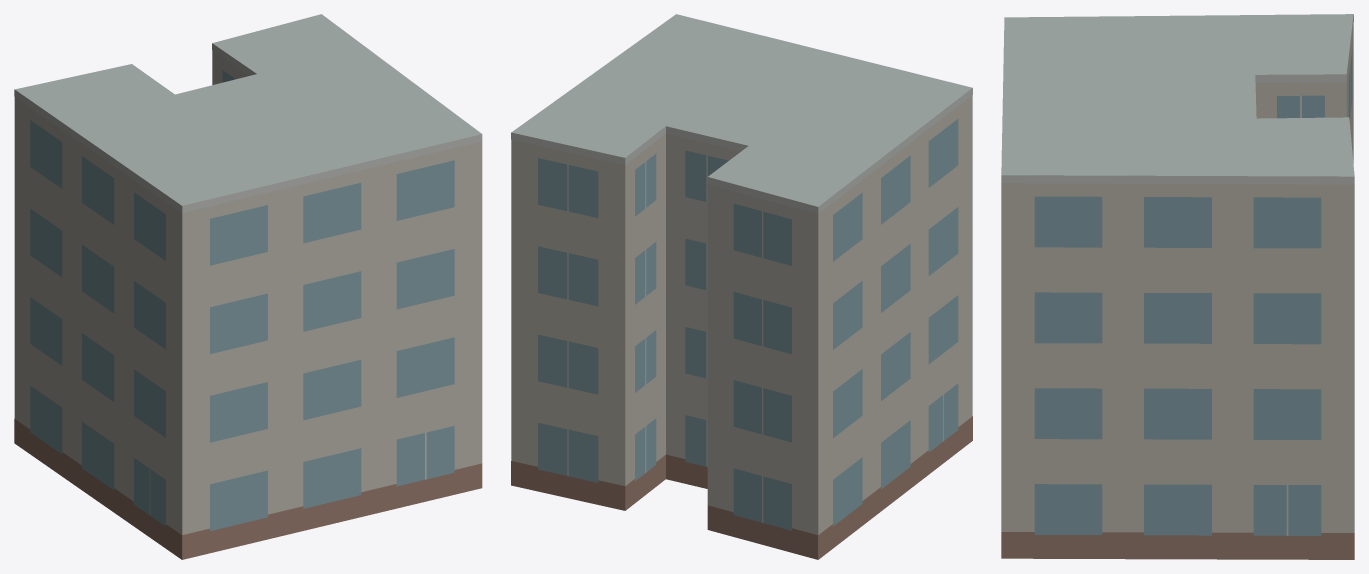
File: survey-upis-32532294.glb
The picture shows the model from 3 angles, left to right: view 1: azimuth 30°, elevation 25°; view 2: azimuth 150°, elevation 25°; view 3: azimuth 270°, elevation 25°; orthographic projection. The views are drawn at different scales.
Parts seen in each view (by area): view 1: survey-upis-32532294.tmp; view 2: survey-upis-32532294.tmp; view 3: survey-upis-32532294.tmp.
Part boxes in pixels (x1=…): survey-upis-32532294.tmp: x1=14, y1=14, x2=482, y2=559; survey-upis-32532294.tmp: x1=511, y1=14, x2=972, y2=559; survey-upis-32532294.tmp: x1=1001, y1=14, x2=1354, y2=559.
Size of the model in its own units: 10.83 by 11.9 by 9.95.
